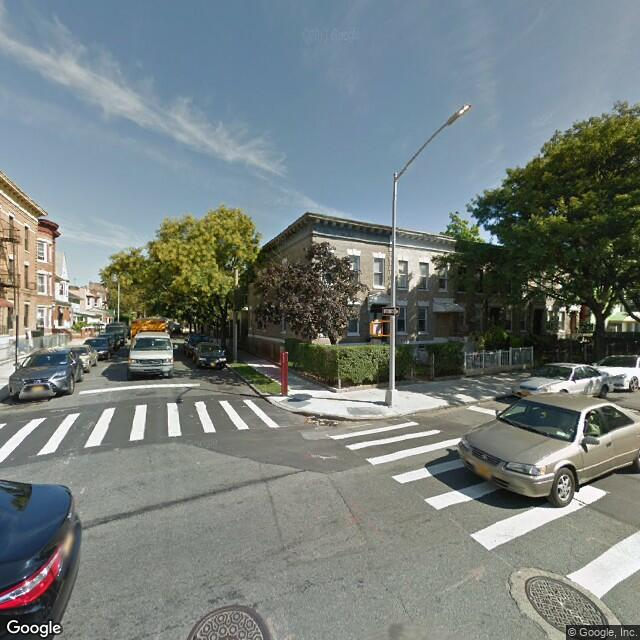litter: (303, 414, 344, 430)
